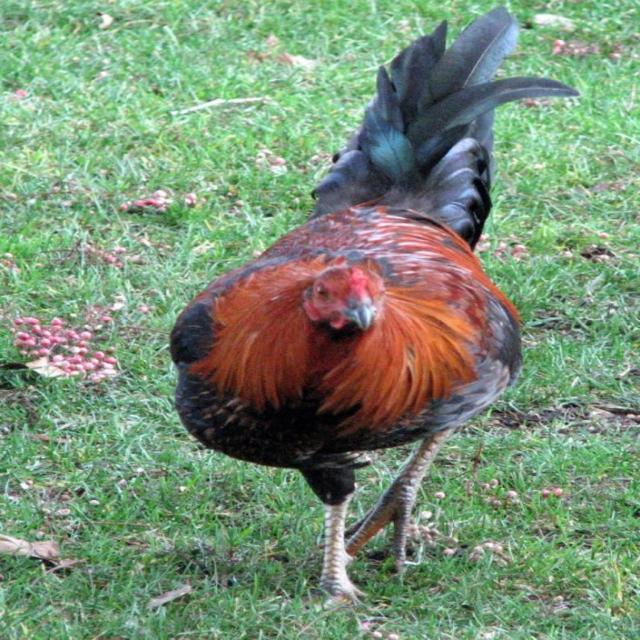Chicken: (145, 51, 572, 622)
